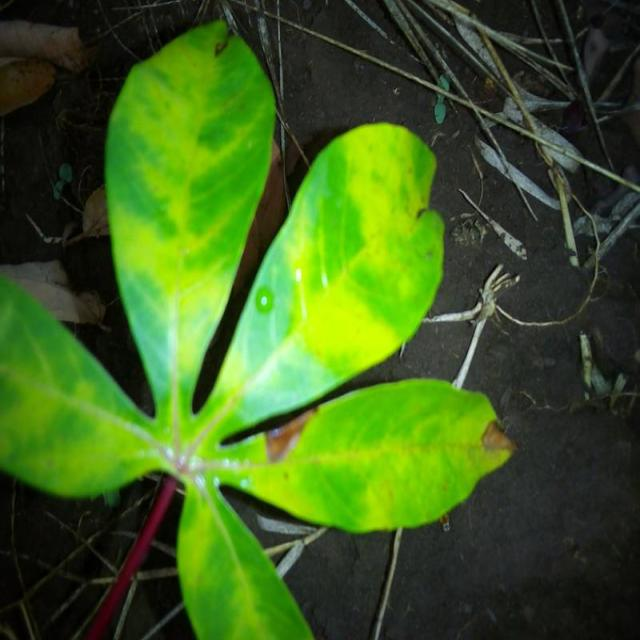cassava leaf: (0, 18, 518, 638), (196, 119, 447, 445), (104, 17, 278, 417), (216, 376, 518, 534), (1, 270, 163, 502)
